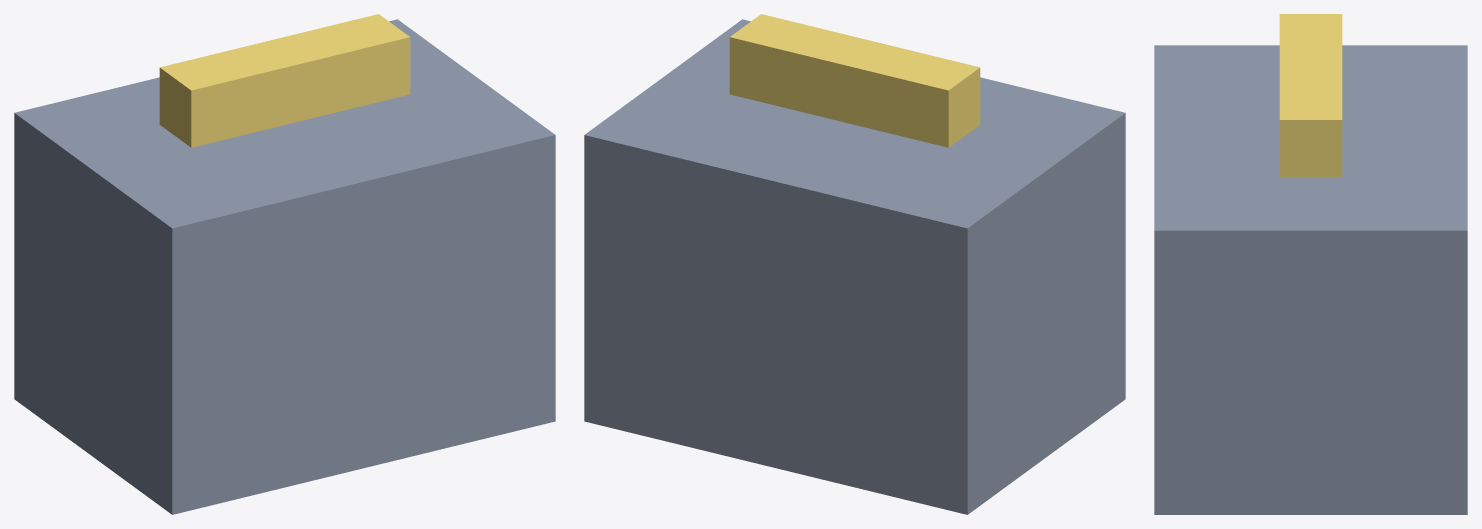
File: sample-pump.glb
The picture shows the model from 3 angles, left to right: view 1: azimuth 30°, elevation 25°; view 2: azimuth 150°, elevation 25°; view 3: azimuth 270°, elevation 25°; orthographic projection.
Visible parts, largest first — view 1: housing, campo_rotor; view 2: housing, campo_rotor; view 3: housing, campo_rotor.
Boxes of the visible parts, bbox=[...] form: housing: bbox=[14, 19, 555, 514]; campo_rotor: bbox=[159, 14, 410, 147]; housing: bbox=[584, 19, 1125, 514]; campo_rotor: bbox=[729, 14, 980, 147]; housing: bbox=[1154, 45, 1467, 514]; campo_rotor: bbox=[1279, 14, 1342, 176].
Bounding box in the file's own units: 1.4 × 1.25 × 1.
